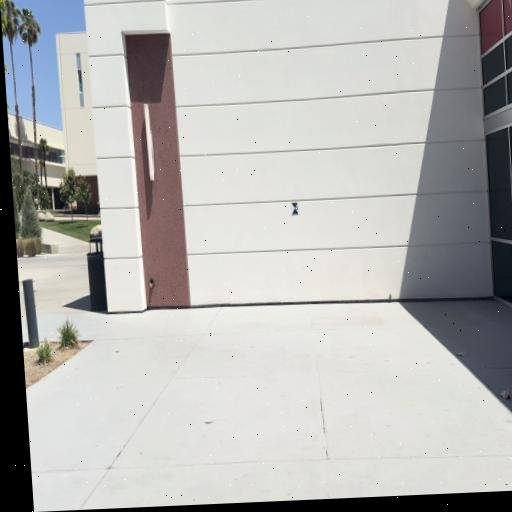target0: (291, 202, 300, 215)
